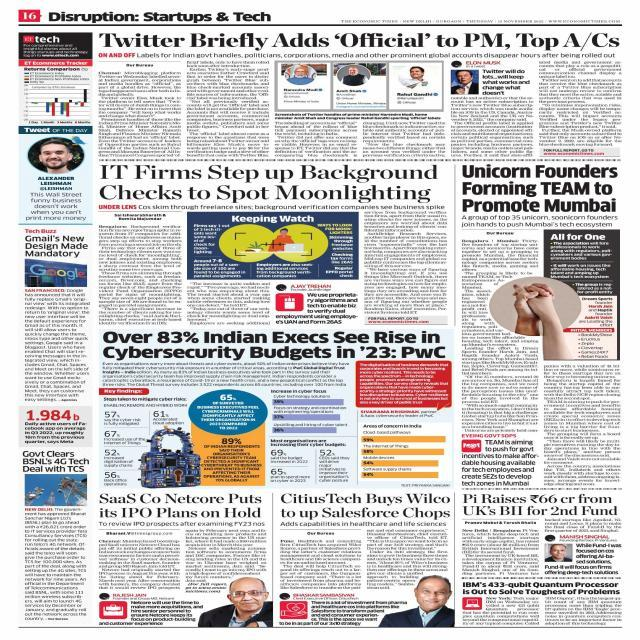Article: (94, 29, 626, 158), (95, 162, 449, 326), (98, 328, 452, 490), (458, 162, 625, 487), (276, 491, 456, 626), (96, 490, 272, 628), (458, 491, 624, 626), (17, 448, 90, 623), (20, 228, 92, 404)
Body: (460, 238, 541, 432), (542, 364, 622, 486), (96, 224, 184, 326), (365, 211, 448, 315), (187, 59, 270, 158), (24, 288, 91, 403), (23, 506, 88, 622), (538, 61, 623, 148), (98, 70, 182, 158), (101, 362, 351, 387), (450, 96, 535, 158), (366, 528, 450, 590), (184, 528, 268, 583), (97, 538, 181, 590), (278, 538, 362, 590), (186, 280, 272, 326), (461, 527, 540, 576), (274, 120, 358, 158), (361, 120, 446, 156), (460, 596, 540, 626), (544, 596, 623, 626), (544, 518, 622, 534)
Date: (464, 20, 544, 23)
Heading: (100, 164, 438, 204), (98, 30, 622, 51), (100, 330, 448, 361), (460, 163, 619, 213), (278, 493, 452, 521), (99, 492, 262, 518), (461, 492, 620, 516), (462, 582, 621, 596), (20, 450, 90, 472), (26, 235, 88, 259), (22, 126, 88, 134)
Highlights: (460, 438, 539, 488), (358, 362, 452, 404), (270, 438, 354, 484), (276, 282, 358, 326), (279, 600, 406, 628), (548, 232, 615, 280), (104, 411, 146, 487), (568, 296, 618, 359), (200, 436, 263, 484), (99, 598, 202, 626), (98, 53, 616, 58), (96, 203, 448, 210), (22, 407, 87, 444), (197, 393, 258, 430), (316, 222, 356, 278), (460, 214, 619, 228), (24, 192, 87, 222), (21, 34, 88, 58), (481, 68, 531, 95), (192, 224, 232, 254), (192, 258, 248, 278), (98, 520, 266, 526), (576, 543, 622, 564), (254, 262, 314, 278), (544, 564, 620, 576), (279, 522, 446, 526), (148, 410, 186, 426), (570, 282, 614, 294)
Image: (360, 423, 450, 482), (270, 388, 353, 436), (201, 582, 274, 628), (149, 428, 198, 488), (235, 224, 312, 262), (20, 84, 90, 120), (24, 136, 85, 173), (25, 474, 88, 506), (408, 589, 456, 626), (24, 260, 87, 288), (391, 66, 442, 92), (332, 63, 384, 88), (282, 63, 328, 86), (451, 70, 478, 95), (545, 543, 573, 561)
Name: (46, 11, 272, 24), (339, 19, 398, 23)
